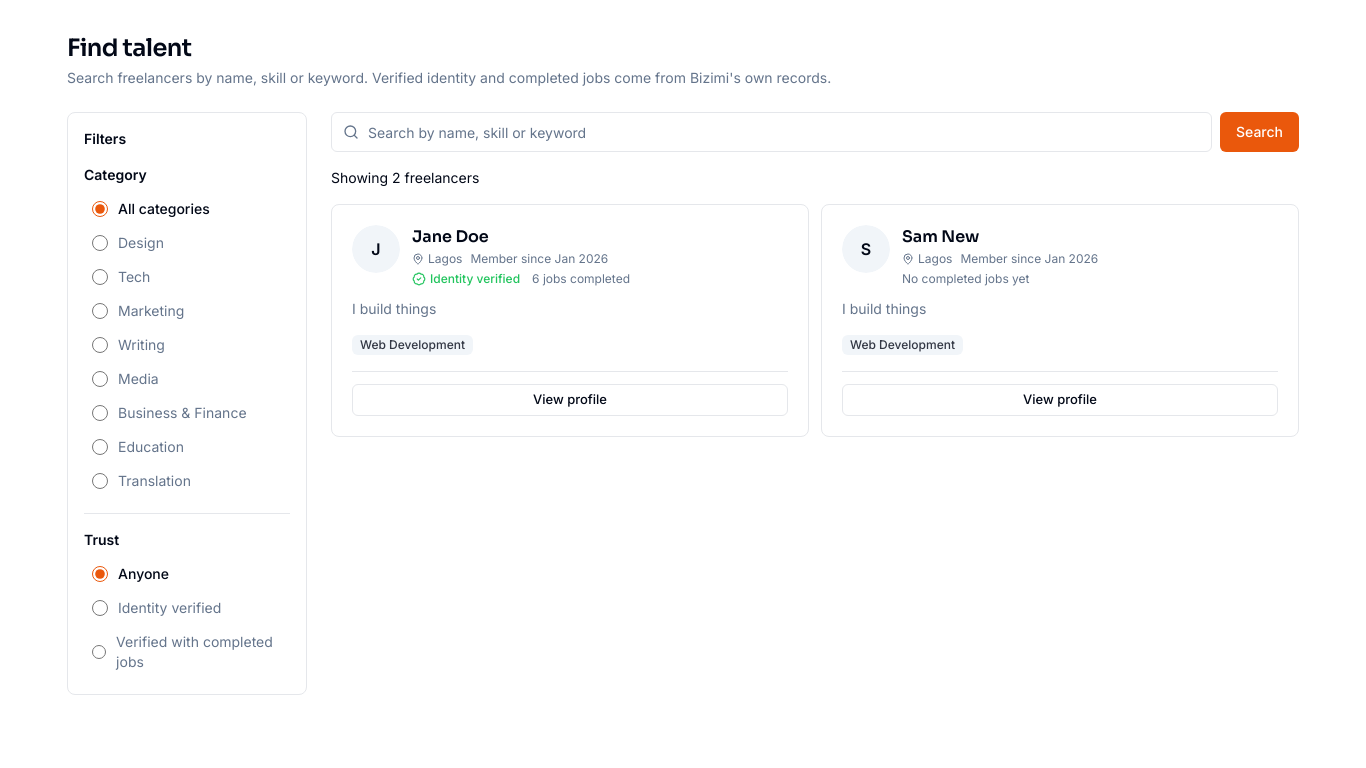
Test case: FindFreelancers › filters to identity-verified freelancers from the sidebar
Expected: the heading "Sam New" is shown, [902,226,979,247]
Step 1. Click the radio button labelled "Identity verified" → (100, 608), box [92,600,108,616]
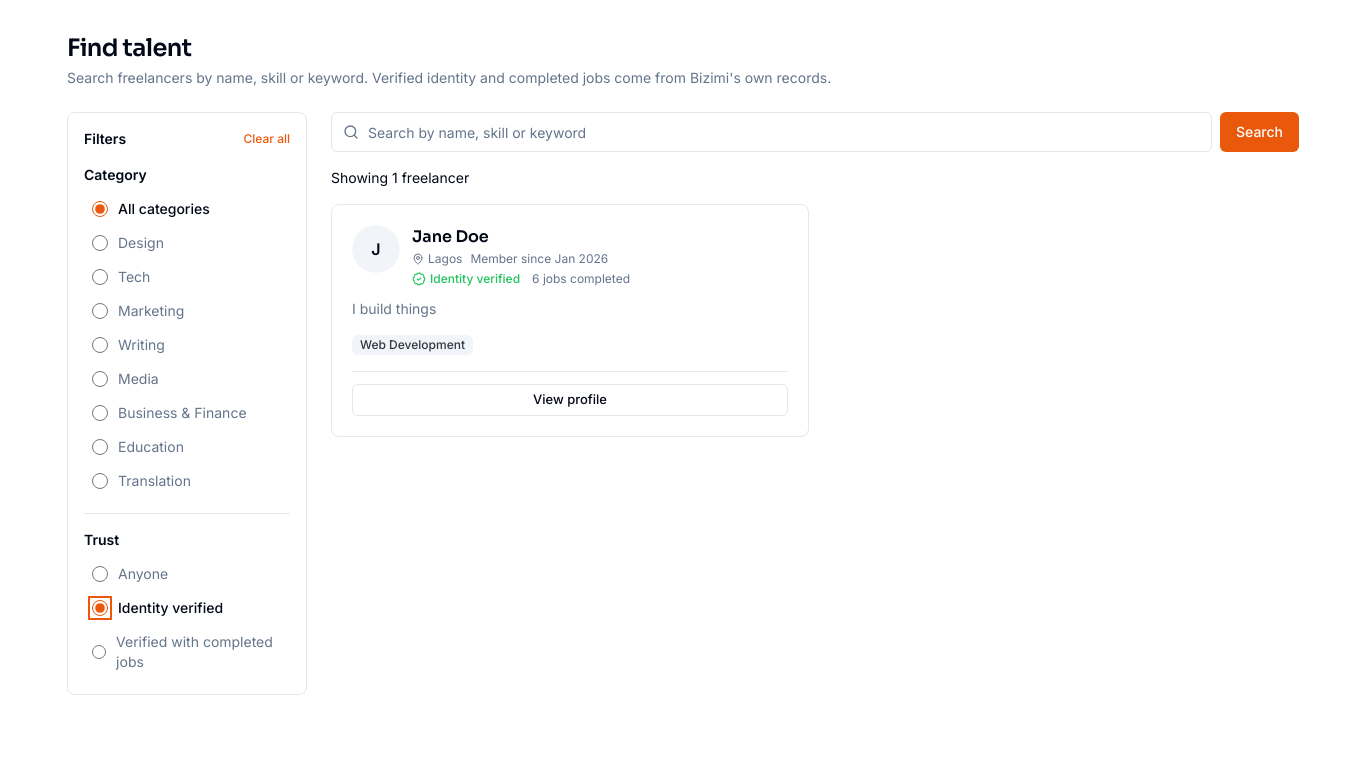
Expected: the heading "Jane Doe" is shown, [412,226,489,247]
Expected: the heading "Sam New" is gone
